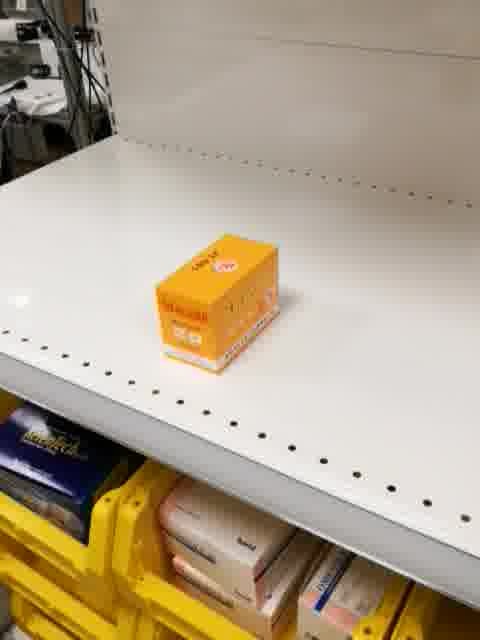jasminetea: (155, 232, 279, 375)
